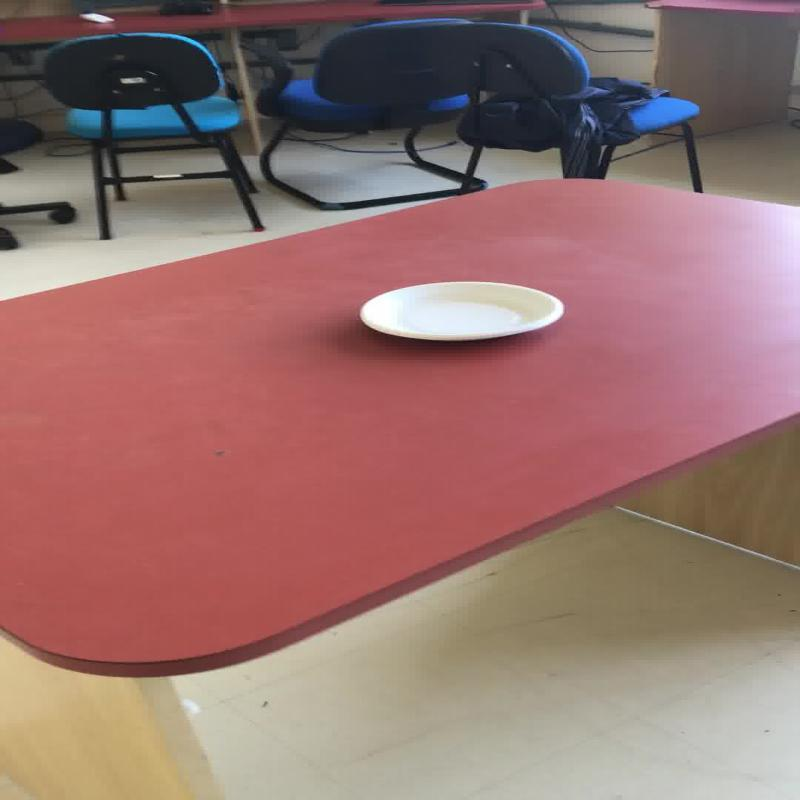plate: (358, 280, 564, 342)
